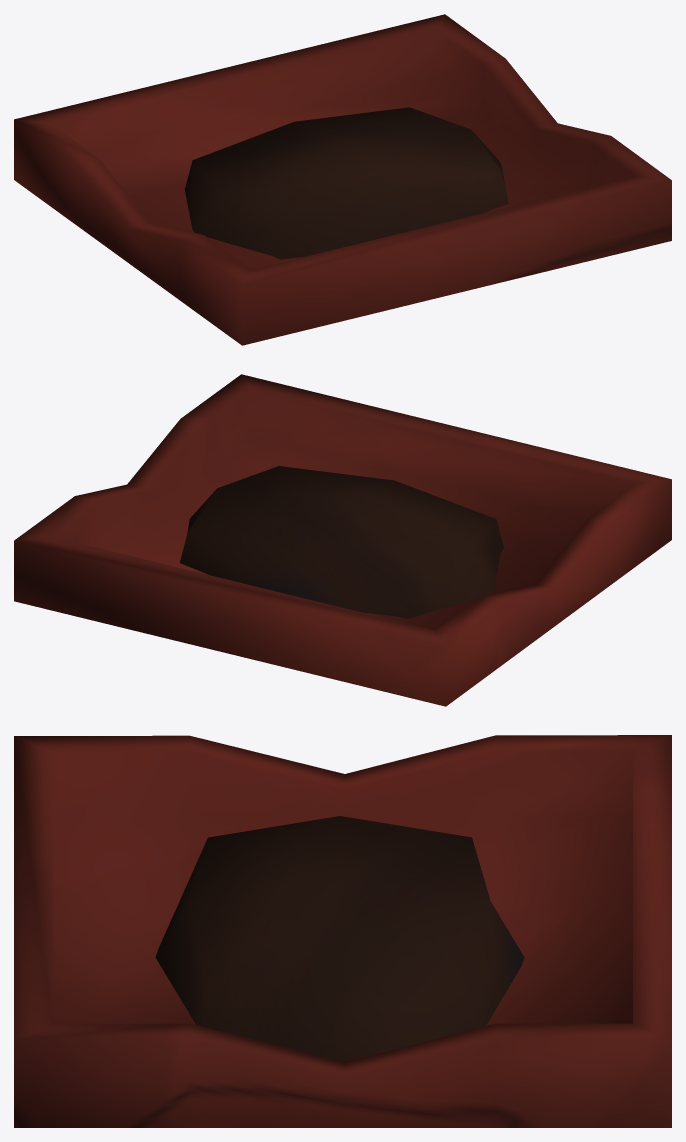
Rendered from Cinzeiro.fbx.
3 renders of one model, top to bottom at view 1: azimuth 30°, elevation 25°; view 2: azimuth 150°, elevation 25°; view 3: azimuth 270°, elevation 25°, orthographic. The views are drawn at different scales.
Visible parts, largest first — view 1: Cinzeiro; view 2: Cinzeiro; view 3: Cinzeiro.
Part boxes in pixels (x1,y1,x2,y2): Cinzeiro: [14, 14, 671, 345]; Cinzeiro: [14, 374, 671, 706]; Cinzeiro: [14, 735, 671, 1127].
Bounding box in the file's own units: 61.54 × 56.1 × 9.29.
